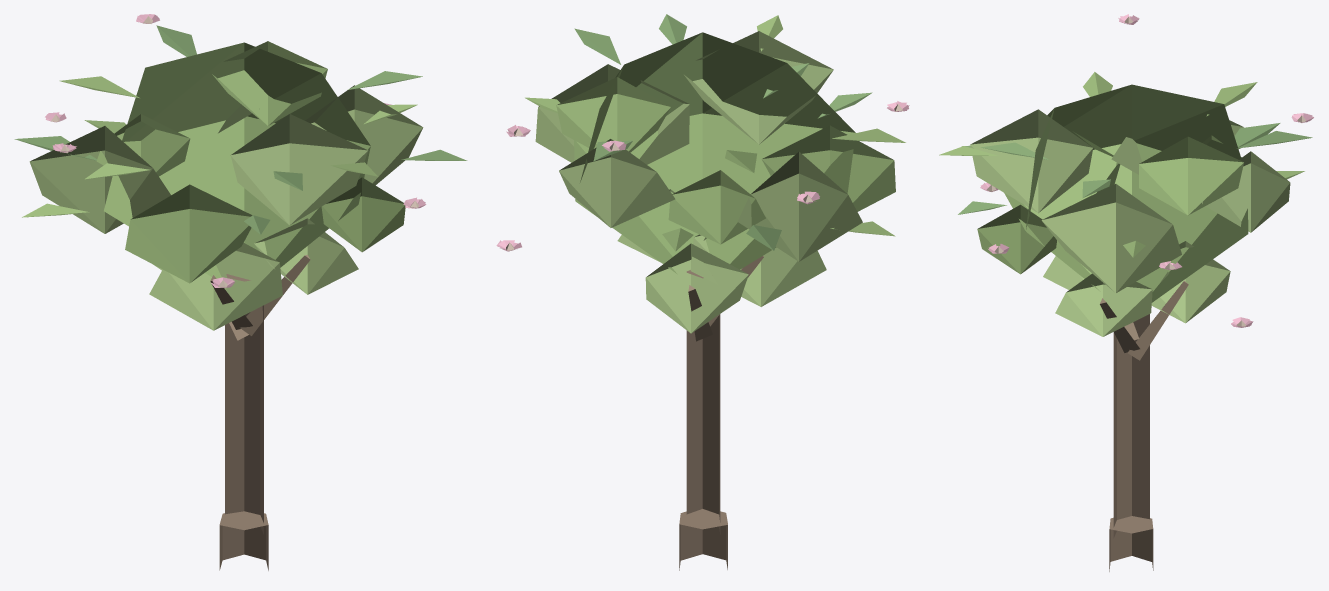
File: shu.paotong@flowering__spring.glb
The picture shows the model from 3 angles, left to right: view 1: azimuth 30°, elevation 25°; view 2: azimuth 150°, elevation 25°; view 3: azimuth 270°, elevation 25°; orthographic projection. The views are drawn at different scales.
Parts seen in each view (by area): view 1: shu.paotong@flowering__spring; view 2: shu.paotong@flowering__spring; view 3: shu.paotong@flowering__spring.
Boxes of the visible parts, bbox=[...] form: shu.paotong@flowering__spring: bbox=[14, 14, 467, 570]; shu.paotong@flowering__spring: bbox=[496, 14, 909, 570]; shu.paotong@flowering__spring: bbox=[939, 14, 1313, 571].
Bounding box in the file's own units: 12.98 × 16.56 × 11.93.
